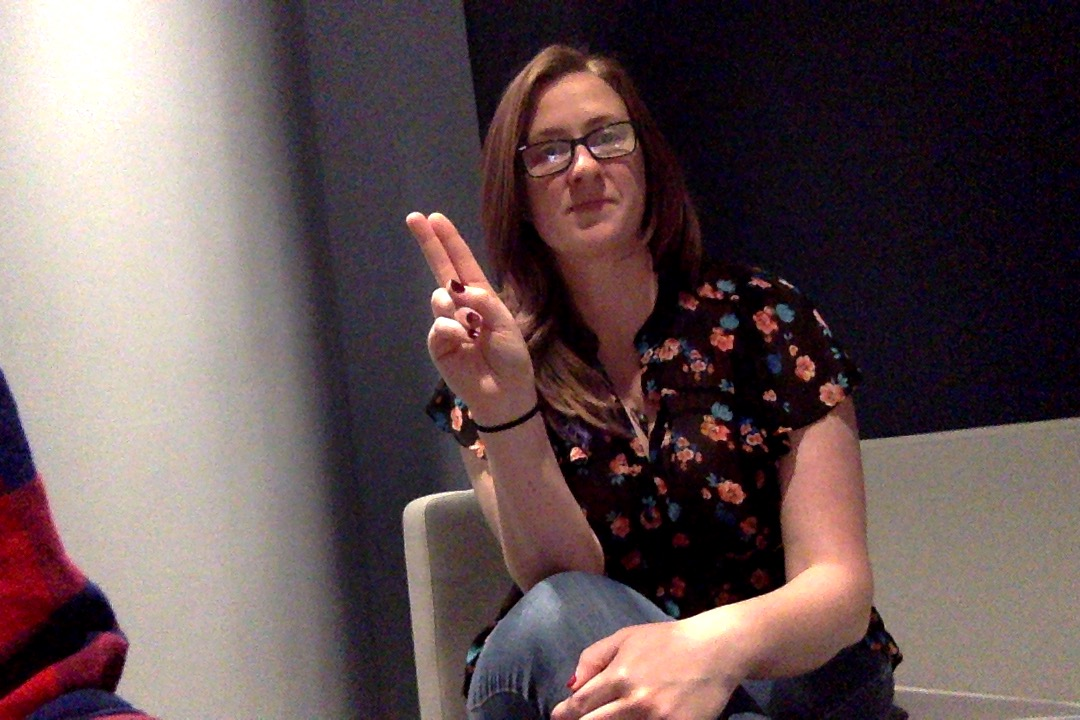u: (390, 200, 549, 469)
